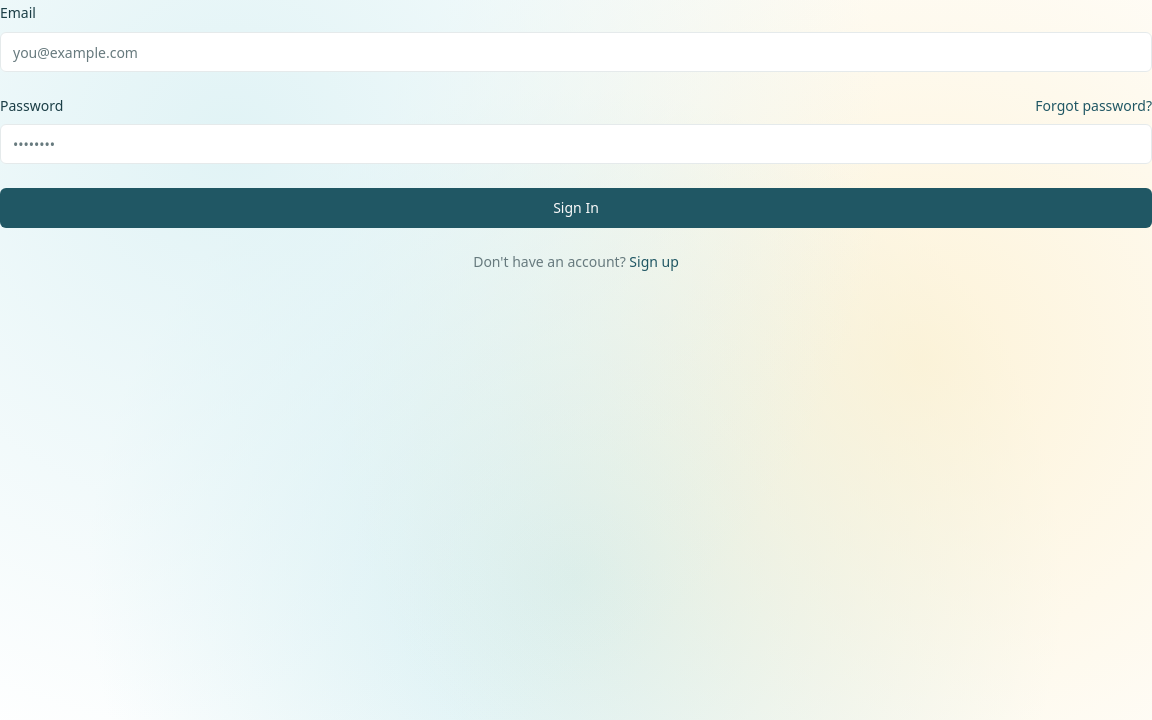
it: LoginForm › handles unexpected errors gracefully
Type "test@example.com" into the field labelled "Email" at (576, 52), box [0,32,1151,72]
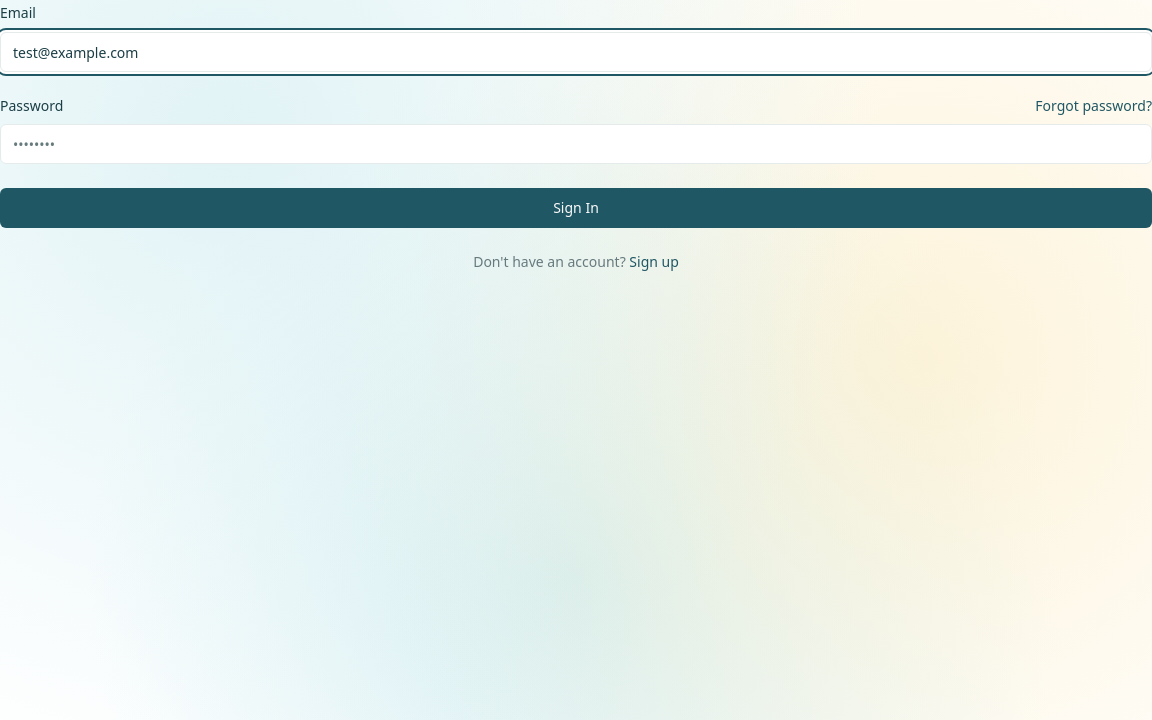
Type "password123" into the password field labelled "Password" at (576, 144), box [0,124,1151,164]
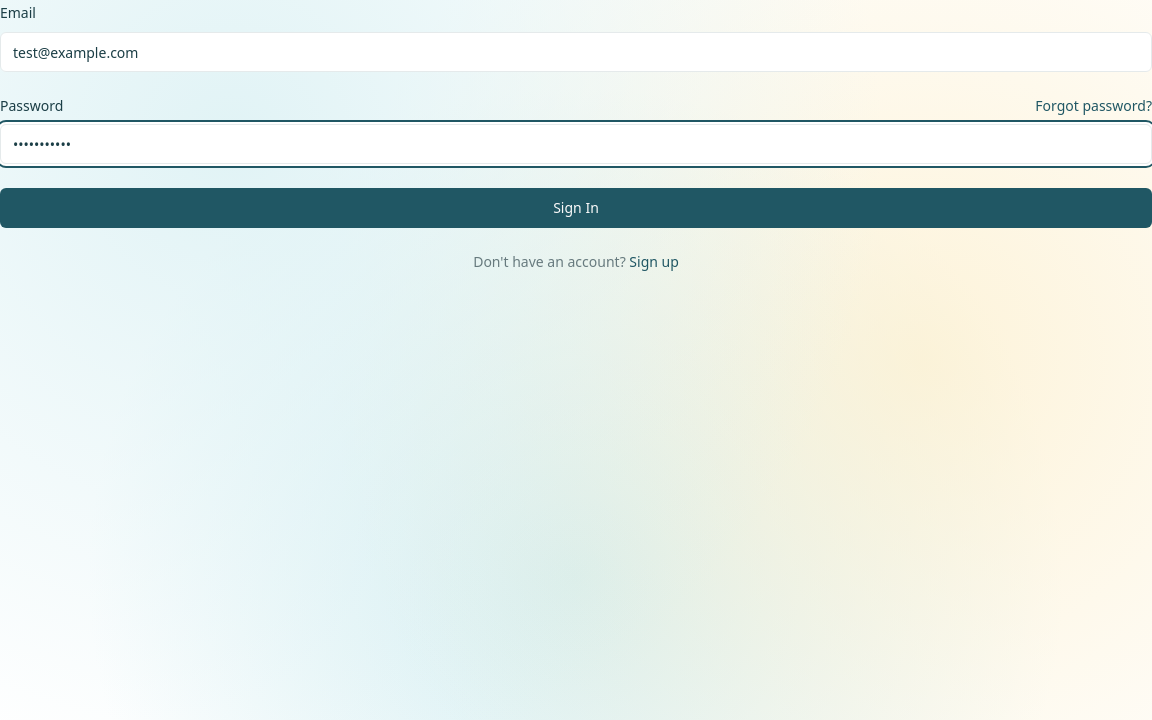
Click the button "Sign In" at (576, 208), box [0,188,1151,228]
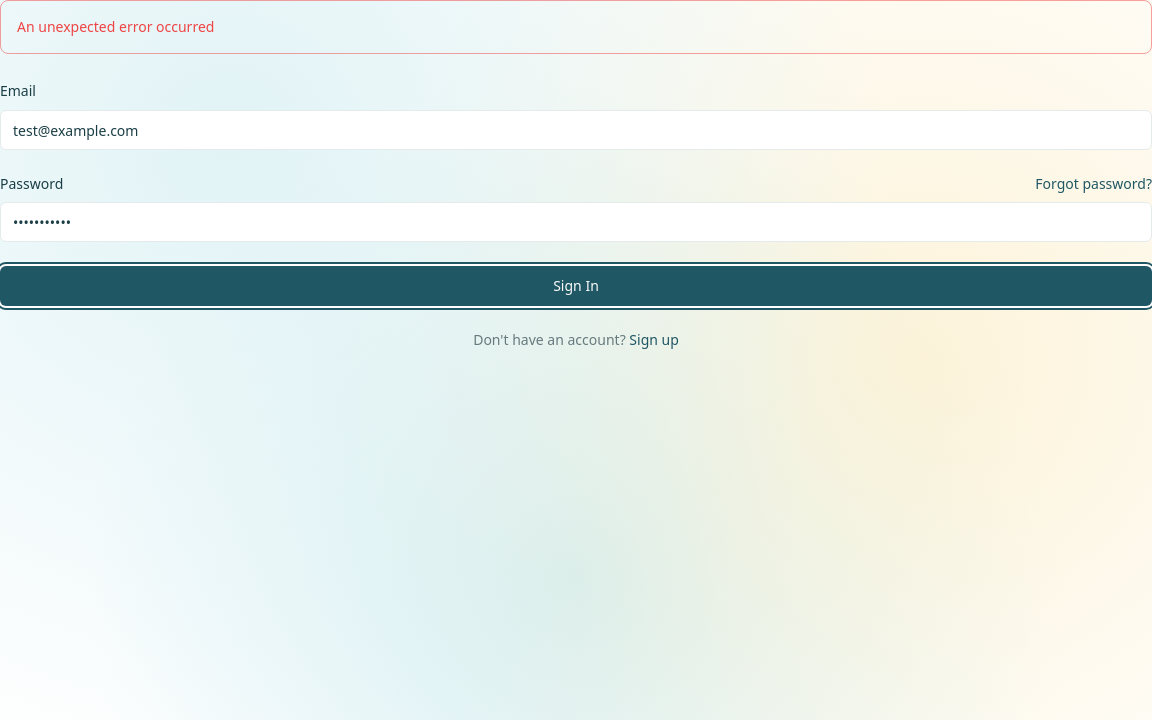
Now the text "An unexpected error occurred" is shown, box [17,17,214,36]
